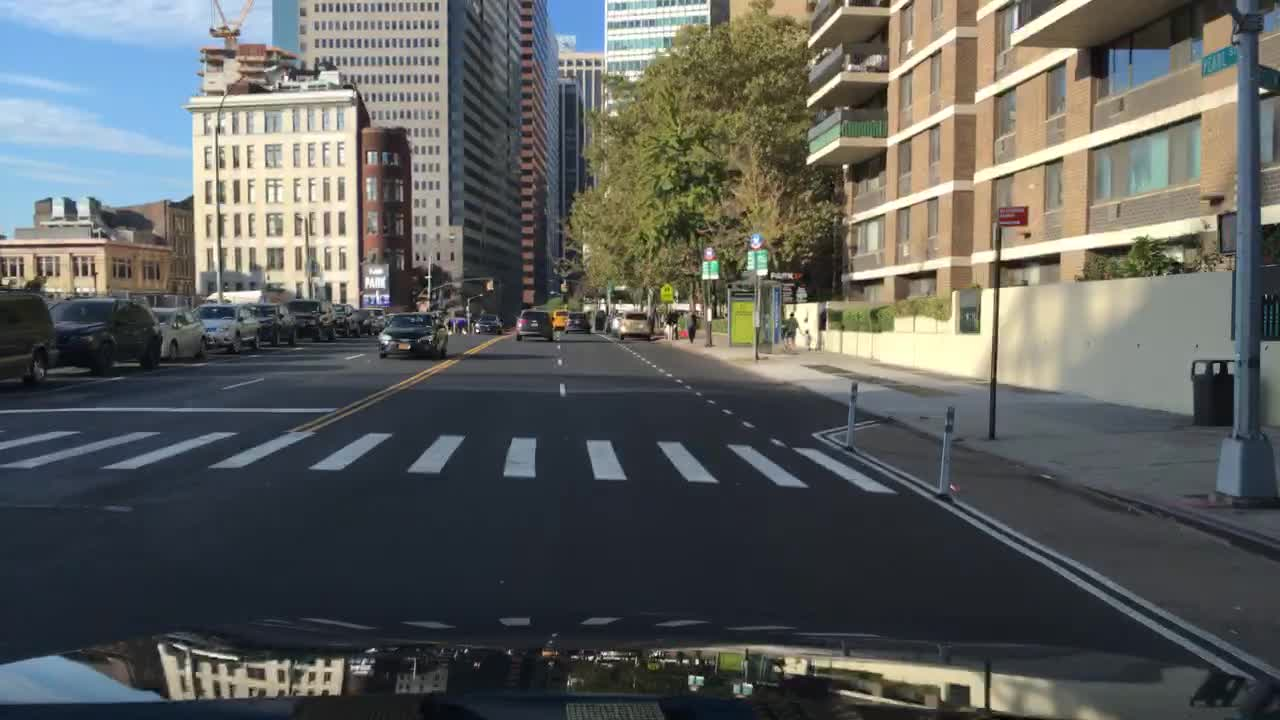car: (49, 297, 158, 378), (0, 287, 57, 388), (376, 309, 449, 364), (192, 302, 265, 354), (150, 307, 209, 363), (287, 299, 334, 344), (253, 302, 298, 346), (513, 307, 557, 344), (327, 300, 361, 337), (616, 307, 653, 341), (563, 307, 592, 339), (472, 309, 503, 337), (354, 305, 374, 336), (590, 309, 611, 334), (550, 307, 570, 331), (373, 307, 390, 334), (606, 310, 624, 334)
person: (783, 309, 798, 347), (683, 304, 698, 341), (663, 307, 675, 344)
traffic sign: (1198, 44, 1242, 76), (994, 204, 1027, 224), (1257, 64, 1279, 91), (754, 250, 768, 277), (658, 282, 675, 304), (747, 231, 766, 246), (700, 261, 717, 277), (746, 250, 756, 270), (702, 246, 714, 260)
